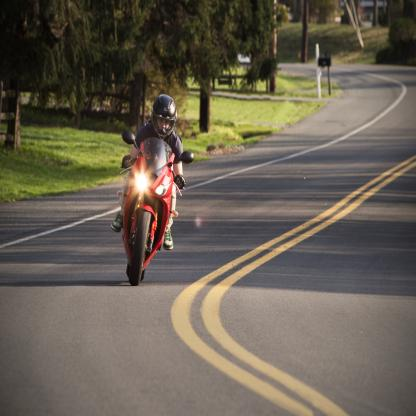Helmet: (152, 94, 180, 141)
